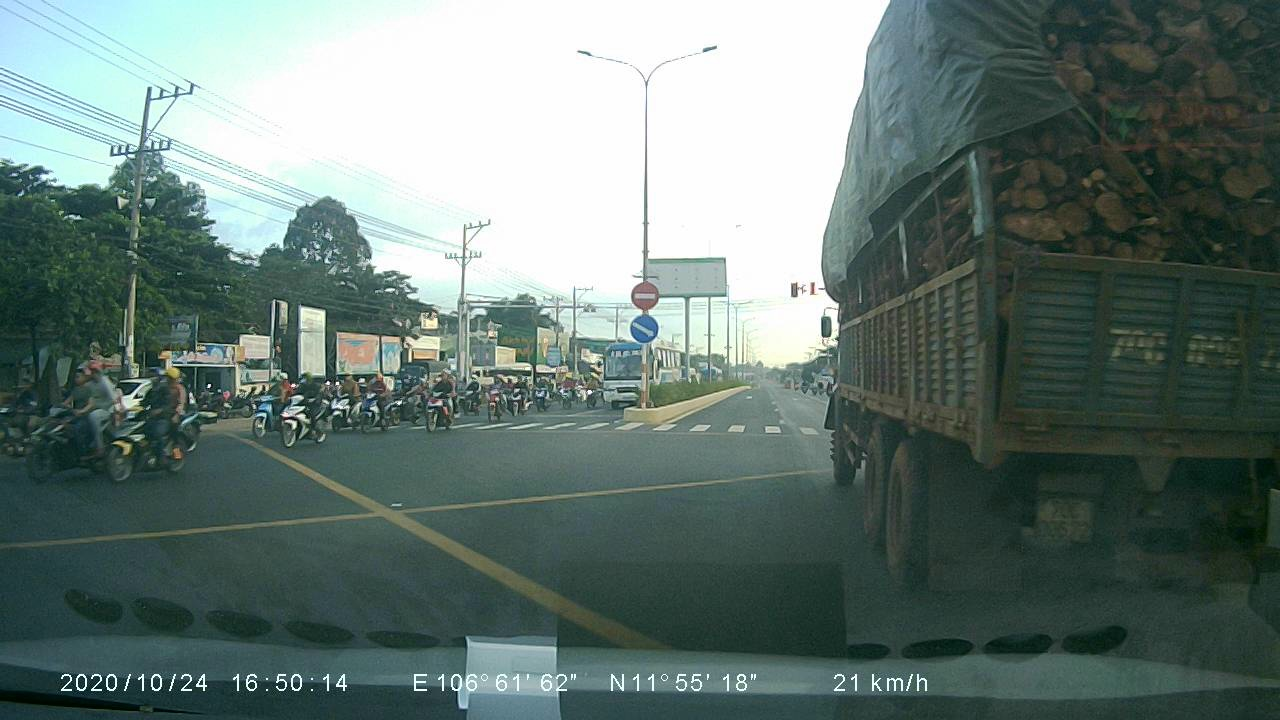Cam di nguoc chieu: (628, 279, 659, 312)
Huong di phai re phai: (628, 313, 660, 347)
